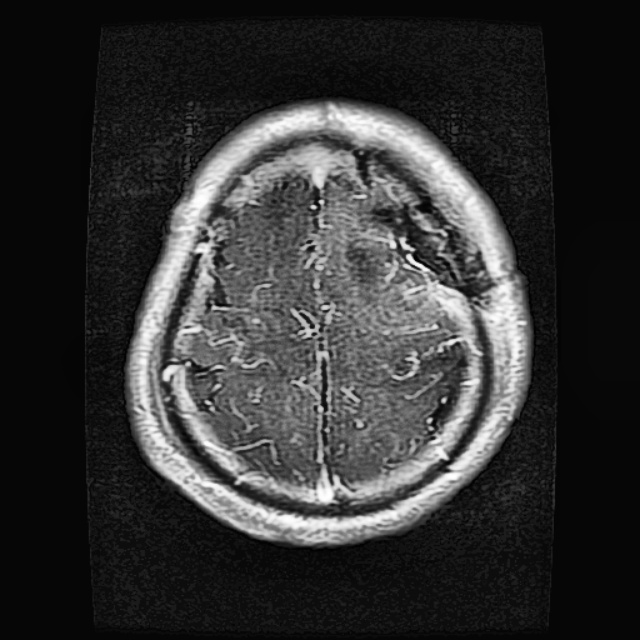Pituitary: (364, 150, 482, 294)
